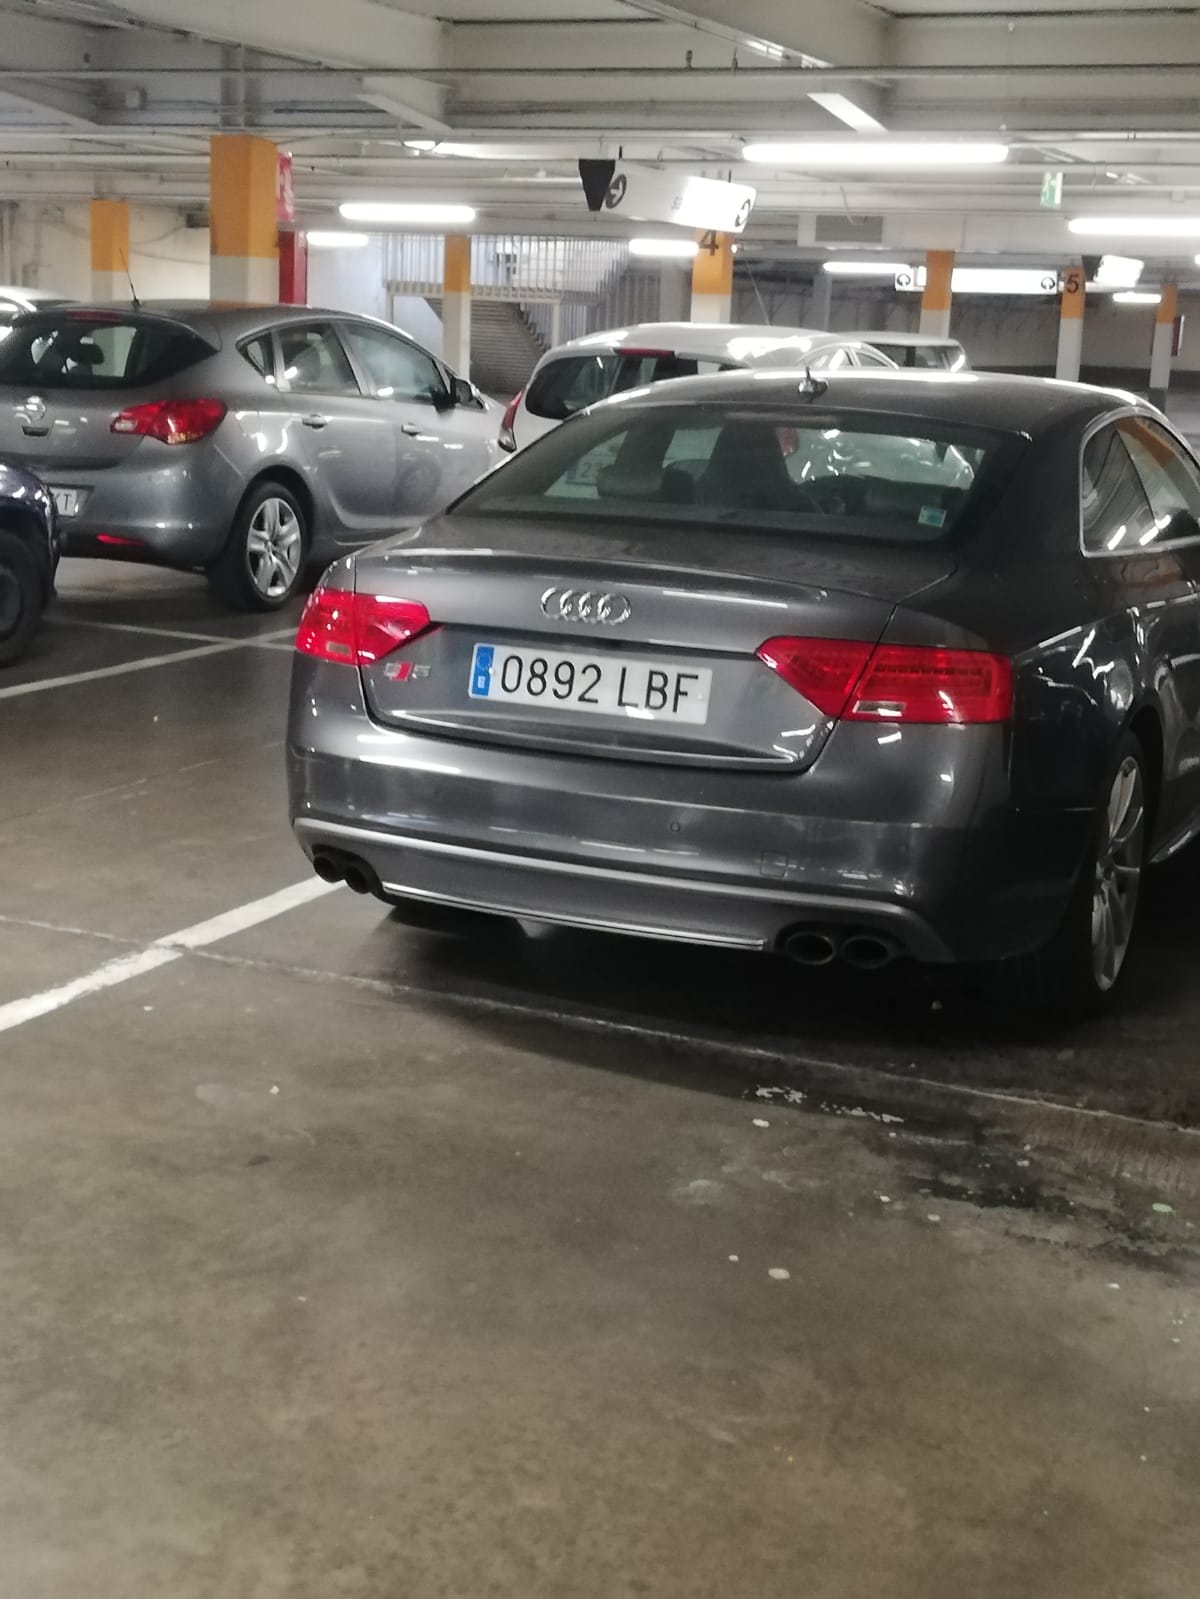Car: (287, 374, 1199, 1050)
Plate: (472, 638, 713, 698)
